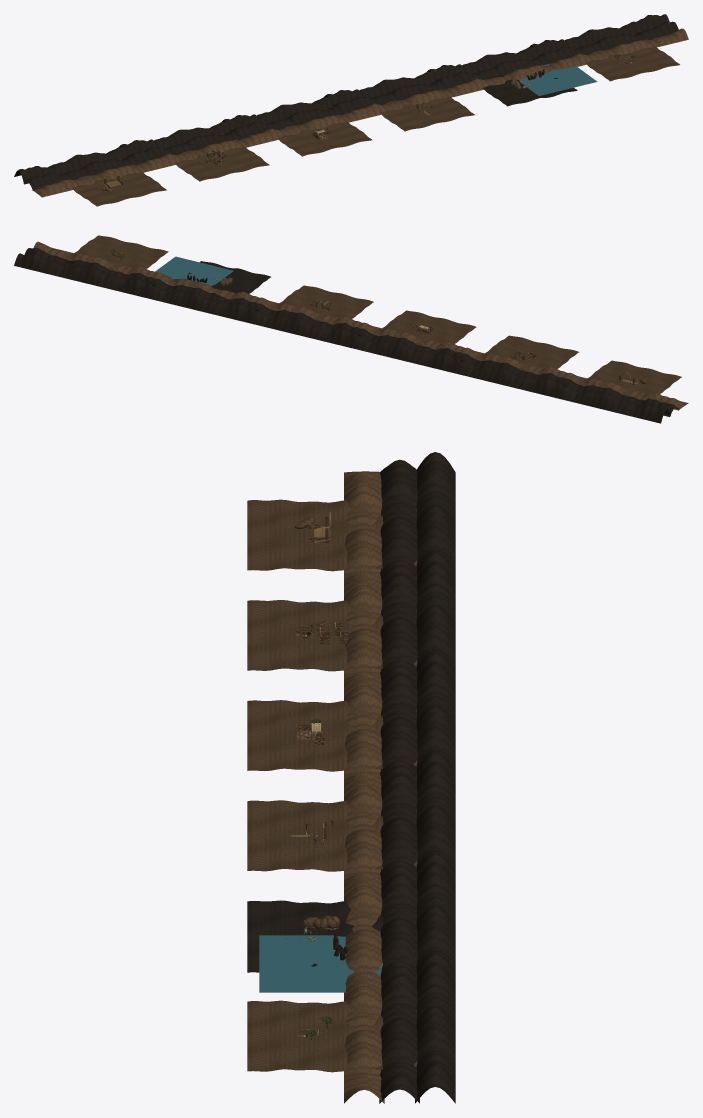
The model's file is job-worlds.glb.
3 views of the same model, one above another, from view 1: azimuth 30°, elevation 25°; view 2: azimuth 150°, elevation 25°; view 3: azimuth 270°, elevation 25° (orthographic). The views are drawn at different scales.
Parts seen in each view (by area): view 1: Continuous weathered terrain 5, Continuous weathered terrain 3, Continuous weathered terrain 1, Continuous weathered terrain 2, Continuous weathered terrain 0, Eroded ridge band 2, Eroded ridge band 1.005, Eroded ridge band 0.005, Eroded ridge band 1, Eroded ridge band 2.005, Open restless sea, Eroded ridge band 2.004 (+13 smaller); view 2: Eroded ridge band 2, Continuous weathered terrain 5, Continuous weathered terrain 3, Eroded ridge band 2.005, Continuous weathered terrain 0, Continuous weathered terrain 2, Continuous weathered terrain 1, Eroded ridge band 2.001, Eroded ridge band 2.003, Eroded ridge band 2.004, Eroded ridge band 2.002, Open restless sea (+13 smaller); view 3: Continuous weathered terrain 5, Continuous weathered terrain 3, Continuous weathered terrain 1, Continuous weathered terrain 2, Continuous weathered terrain 0, Open restless sea, Eroded ridge band 2, Eroded ridge band 2.005, Eroded ridge band 1.005, Eroded ridge band 1, Eroded ridge band 0.005, Eroded ridge band 2.002 (+13 smaller).
Boxes of the visible parts, x1,y1,x2,y2 form: Continuous weathered terrain 5: (585, 34, 679, 81); Continuous weathered terrain 3: (380, 84, 474, 131); Continuous weathered terrain 1: (175, 134, 269, 181); Continuous weathered terrain 2: (278, 109, 371, 156); Continuous weathered terrain 0: (72, 159, 166, 206); Eroded ridge band 2: (14, 139, 156, 184); Eroded ridge band 1.005: (538, 21, 678, 64); Eroded ridge band 0.005: (548, 28, 688, 69); Eroded ridge band 1: (23, 147, 165, 190); Eroded ridge band 2.005: (529, 14, 669, 56); Open restless sea: (519, 63, 597, 95); Eroded ridge band 2.004: (427, 39, 566, 81); Eroded ridge band 2: (527, 378, 670, 423); Continuous weathered terrain 5: (65, 235, 168, 271); Continuous weathered terrain 3: (270, 285, 373, 321); Eroded ridge band 2.005: (14, 253, 155, 298); Continuous weathered terrain 0: (578, 360, 681, 396); Continuous weathered terrain 2: (373, 310, 476, 346); Continuous weathered terrain 1: (476, 335, 579, 371); Eroded ridge band 2.001: (424, 353, 566, 398); Eroded ridge band 2.003: (219, 303, 360, 348); Eroded ridge band 2.004: (116, 278, 257, 323); Eroded ridge band 2.002: (322, 328, 463, 373); Open restless sea: (155, 256, 233, 285); Continuous weathered terrain 5: (247, 1000, 417, 1072); Continuous weathered terrain 3: (247, 800, 417, 871); Continuous weathered terrain 1: (247, 600, 417, 671); Continuous weathered terrain 2: (247, 700, 417, 771); Continuous weathered terrain 0: (247, 499, 417, 571); Open restless sea: (259, 935, 382, 992); Eroded ridge band 2: (416, 452, 455, 602); Eroded ridge band 2.005: (415, 953, 455, 1103); Eroded ridge band 1.005: (379, 960, 419, 1103); Eroded ridge band 1: (380, 459, 417, 600); Eroded ridge band 0.005: (344, 972, 384, 1103); Eroded ridge band 2.002: (416, 652, 455, 802).
Bounding box in the file's own units: 882 × 19.87 × 123.
19 materials, 10 textured.
